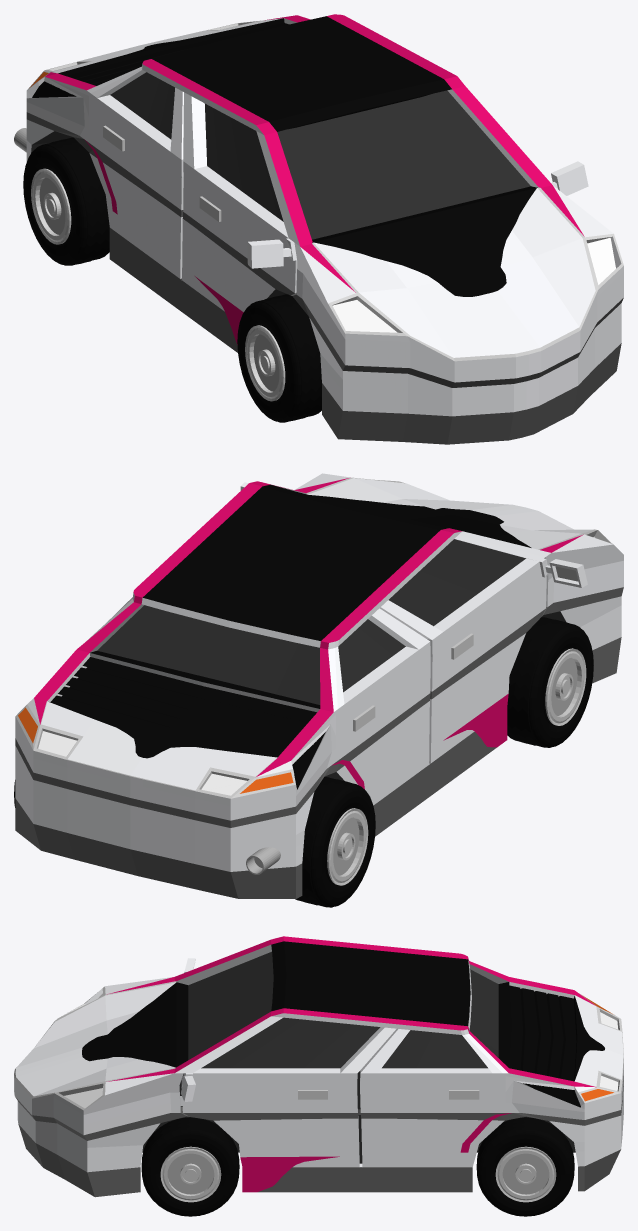
Rendered from CR-CAR-22A.fbx.
The picture shows the model from 3 angles, top to bottom: view 1: azimuth 30°, elevation 25°; view 2: azimuth 150°, elevation 25°; view 3: azimuth 270°, elevation 25°; orthographic projection. The views are drawn at different scales.
Visible parts, largest first — view 1: BODY, WHEEL.001, WHEEL.004; view 2: BODY, WHEEL.001, WHEEL.004, SHACMAN; view 3: BODY, WHEEL.003, WHEEL.002.
Boxes of the visible parts, x1=… form: BODY: x1=26, y1=14, x2=623, y2=444; WHEEL.001: x1=237, y1=294, x2=321, y2=422; WHEEL.004: x1=23, y1=137, x2=109, y2=265; BODY: x1=15, y1=473, x2=623, y2=898; WHEEL.001: x1=507, y1=617, x2=593, y2=747; WHEEL.004: x1=295, y1=777, x2=375, y2=907; SHACMAN: x1=246, y1=847, x2=280, y2=874; BODY: x1=14, y1=936, x2=623, y2=1197; WHEEL.003: x1=141, y1=1117, x2=239, y2=1216; WHEEL.002: x1=476, y1=1117, x2=574, y2=1216.
Size of the model in its own units: 121 by 82.49 by 243.
